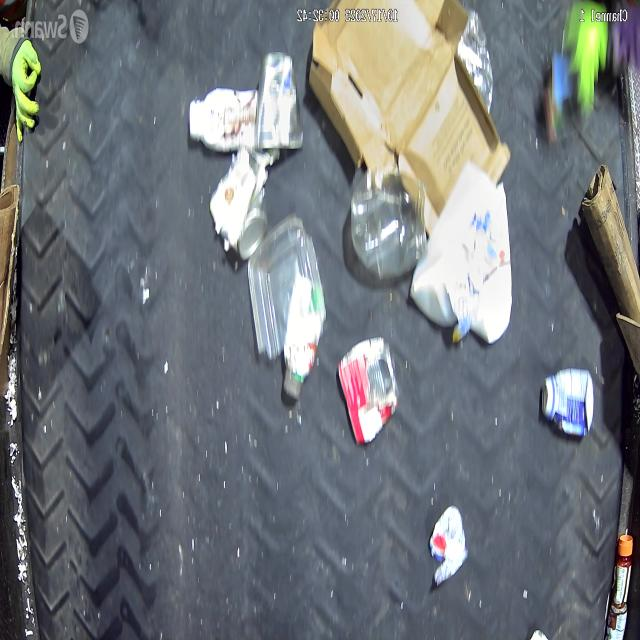can: (336, 336, 398, 446), (209, 150, 268, 260), (253, 50, 299, 154)
milk_jug: (408, 165, 512, 342)
plastic_bottle: (456, 6, 495, 116)
